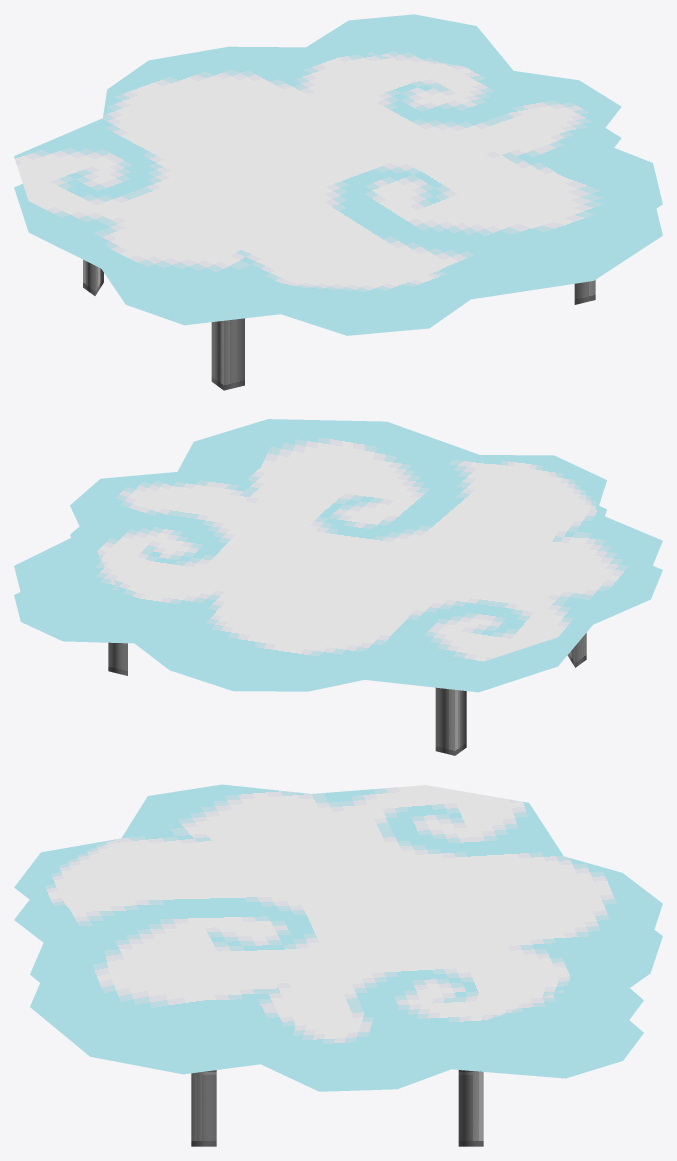
The picture shows the model from 3 angles, top to bottom: view 1: azimuth 30°, elevation 25°; view 2: azimuth 150°, elevation 25°; view 3: azimuth 270°, elevation 25°; orthographic projection. The views are drawn at different scales.
Parts seen in each view (by area): view 1: 3719kg_sk_ta1; view 2: 3719kg_sk_ta1; view 3: 3719kg_sk_ta1.
Boxes of the visible parts, x1,y1,x2,y2 form: 3719kg_sk_ta1: [14, 14, 662, 390]; 3719kg_sk_ta1: [14, 419, 662, 755]; 3719kg_sk_ta1: [14, 784, 662, 1146].
Bounding box in the file's own units: 1.97 × 0.4399 × 1.97.
1 material, 1 textured.
